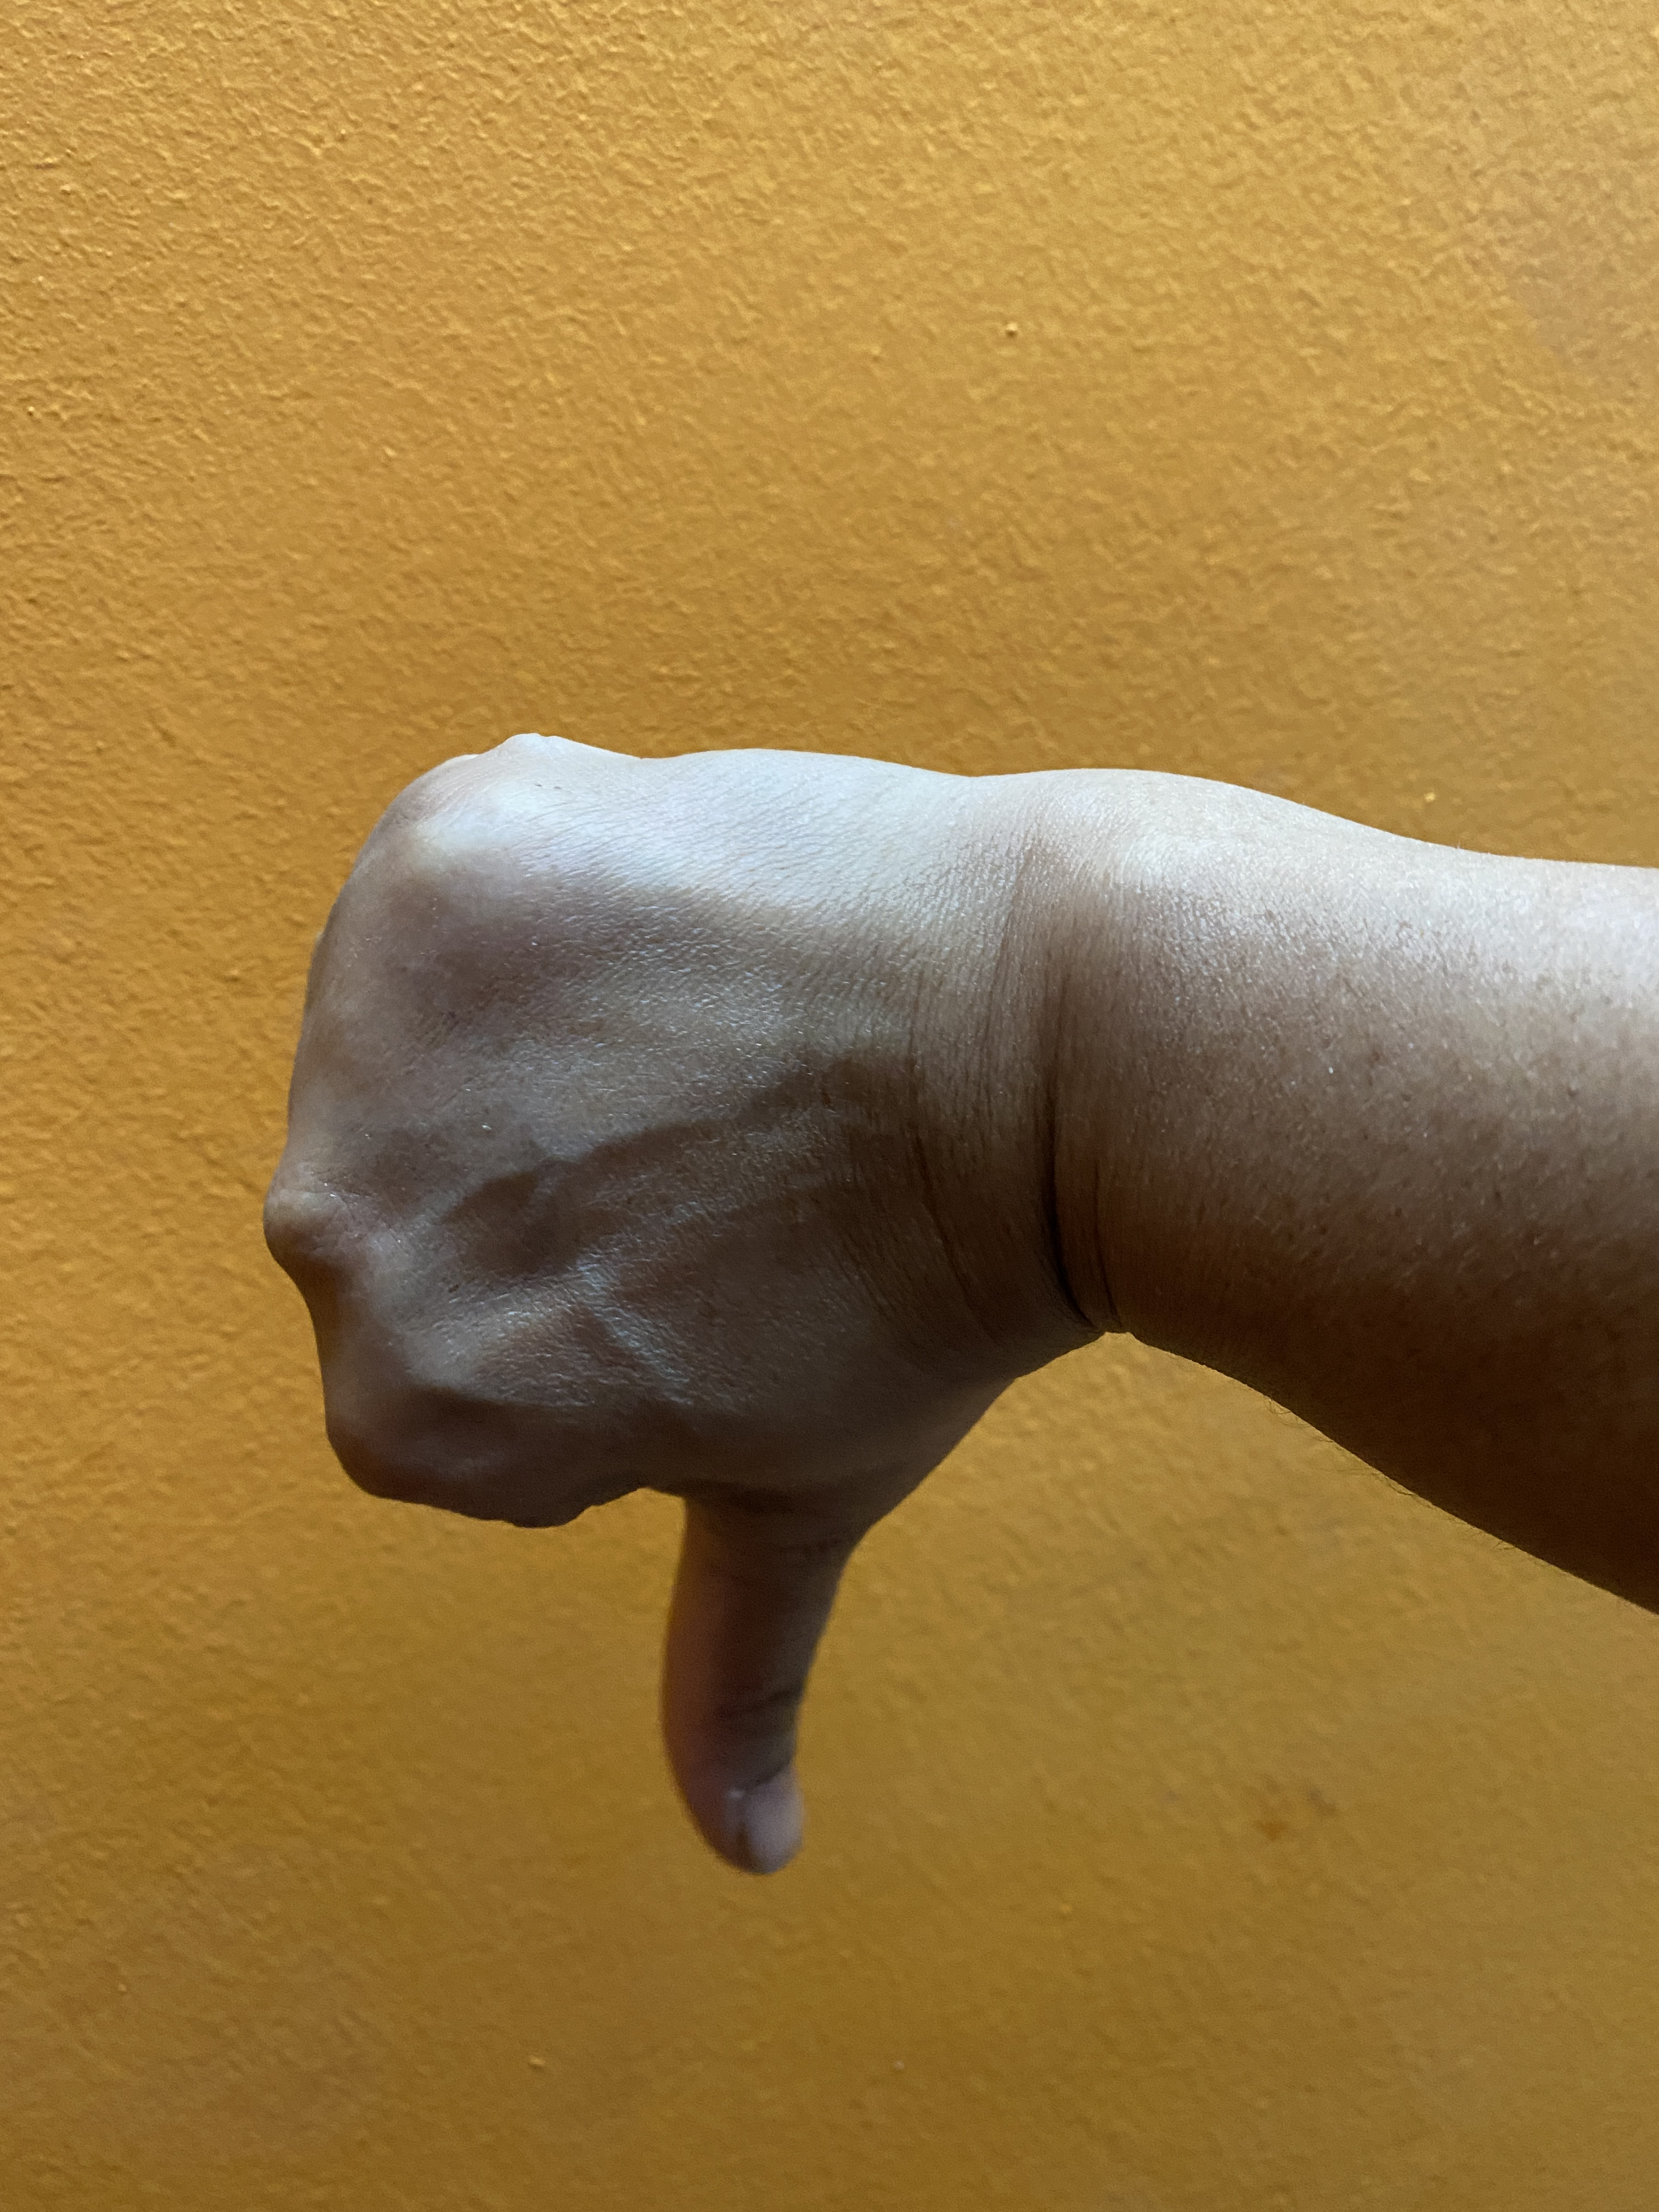down: (300, 730, 1659, 1918)
